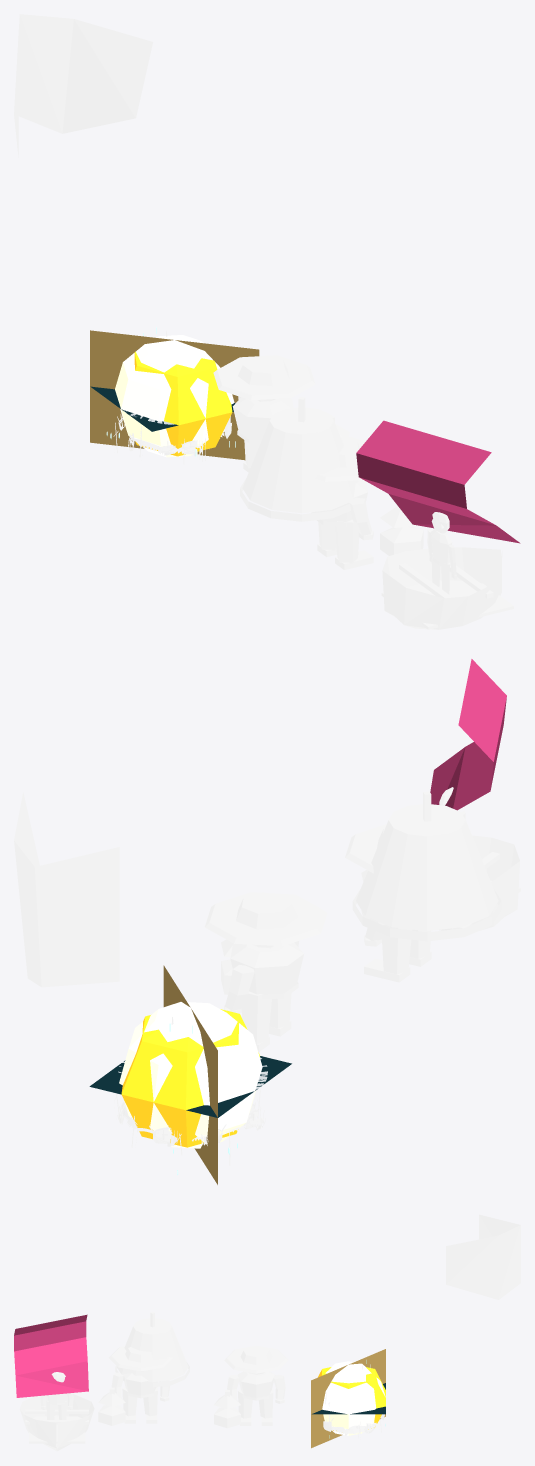
The model's file is ile-cimetiere-v5.glb.
3 views of the same model, one above another, from view 1: azimuth 30°, elevation 25°; view 2: azimuth 150°, elevation 25°; view 3: azimuth 270°, elevation 25° (orthographic). The views are drawn at different scales.
Parts seen in each view (by area): view 1: ile_anime0.034, ile_lumieres.034, ile_banniere0.020, ile_anime3.030, ile_anime1.034, ile_vitres.024, ile_copie0.021, ile_anime2.034, ile_corps.034, ile_libre0.032; view 2: ile_anime1.034, ile_lumieres.034, ile_anime0.034, ile_copie0.021, ile_banniere0.020, ile_anime2.034, ile_anime3.030, ile_vitres.024, ile_libre0.032, ile_corps.034; view 3: ile_banniere0.020, ile_anime0.034, ile_copie0.021, ile_anime2.034, ile_lumieres.034, ile_anime3.030, ile_anime1.034, ile_vitres.024, ile_corps.034, ile_libre0.032.
Part boxes in pixels (x1,y1,x2,y2): ile_anime0.034: (14, 14, 152, 157); ile_lumieres.034: (106, 327, 235, 457); ile_banniere0.020: (356, 420, 520, 543); ile_anime3.030: (381, 512, 513, 629); ile_anime1.034: (240, 397, 358, 521); ile_vitres.024: (90, 330, 259, 460); ile_copie0.021: (213, 355, 349, 472); ile_anime2.034: (311, 437, 423, 569); ile_corps.034: (113, 330, 231, 464); ile_libre0.032: (90, 386, 235, 431); ile_anime1.034: (352, 791, 501, 941); ile_lumieres.034: (119, 1002, 262, 1174); ile_anime0.034: (14, 792, 119, 987); ile_copie0.021: (205, 892, 327, 1051); ile_banniere0.020: (430, 659, 506, 810); ile_anime2.034: (345, 824, 431, 982); ile_anime3.030: (439, 787, 520, 930); ile_vitres.024: (163, 965, 217, 1184); ile_libre0.032: (89, 1056, 291, 1117); ile_corps.034: (114, 1017, 265, 1165); ile_banniere0.020: (14, 1314, 88, 1397); ile_anime0.034: (446, 1214, 520, 1299); ile_copie0.021: (214, 1345, 288, 1428); ile_anime2.034: (98, 1346, 172, 1425); ile_lumieres.034: (318, 1360, 385, 1438); ile_anime3.030: (19, 1372, 94, 1451); ile_anime1.034: (115, 1311, 189, 1387); ile_vitres.024: (311, 1349, 385, 1448); ile_corps.034: (323, 1365, 384, 1439); ile_libre0.032: (312, 1383, 385, 1414).
Bounding box in the file's own units: 3.25 × 6 × 13.53.
